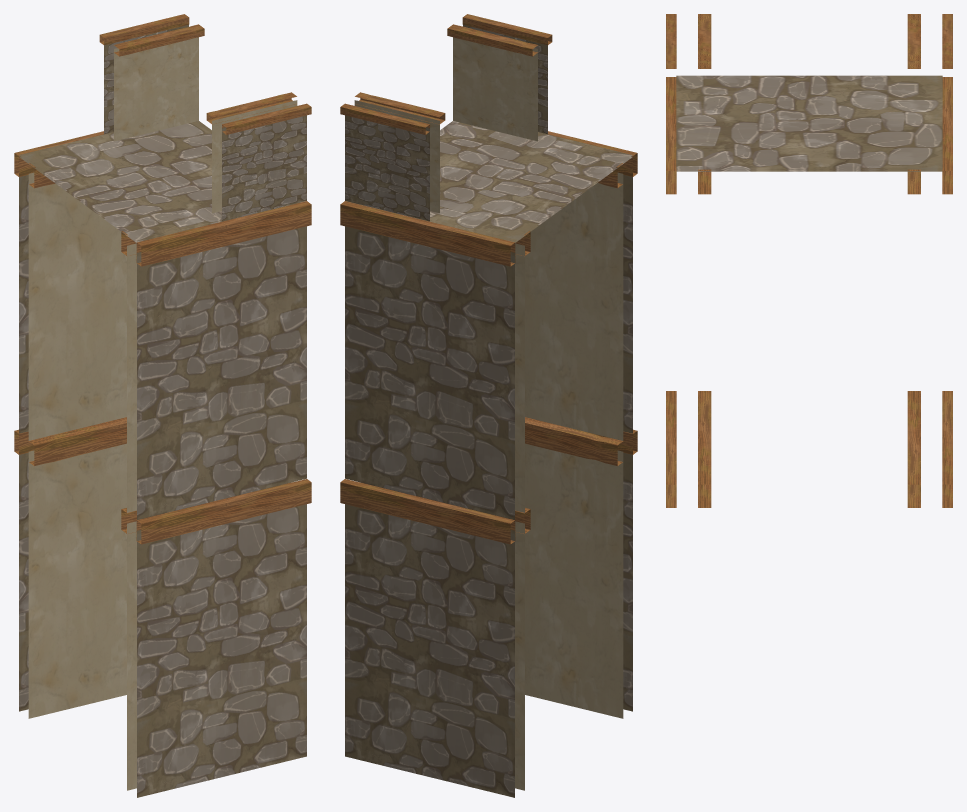
The model's file is Burg_Mauer.gltf.
3 renders of one model, left to right at view 1: azimuth 30°, elevation 25°; view 2: azimuth 150°, elevation 25°; view 3: azimuth 270°, elevation 25°, orthographic. The views are drawn at different scales.
Visible parts, largest first — view 1: Burg_Mauer; view 2: Burg_Mauer; view 3: Burg_Mauer.
Boxes of the visible parts, box(x1,y1,x2,y2) form: Burg_Mauer: box(14, 14, 311, 797); Burg_Mauer: box(340, 14, 637, 797); Burg_Mauer: box(666, 14, 952, 507).
Size of the model in its own units: 2 by 7.33 by 2.58.
Materials: 4 (4 with a texture image).
